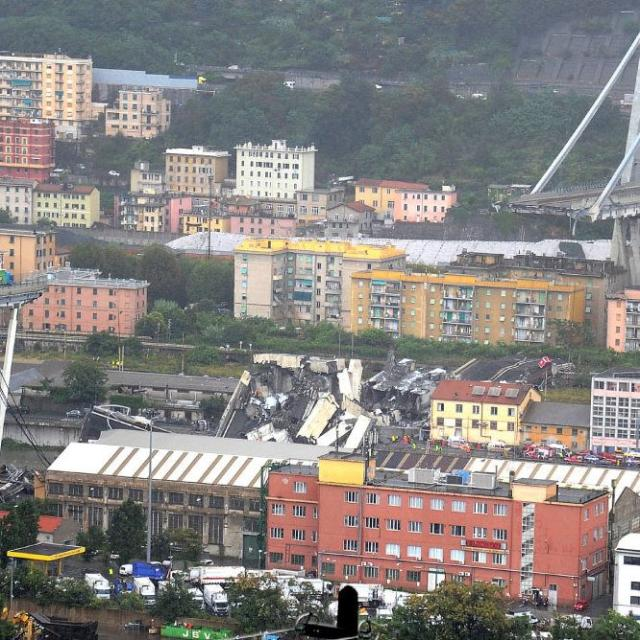collapsed_building: (234, 351, 375, 452), (495, 156, 632, 239), (359, 349, 441, 433)
